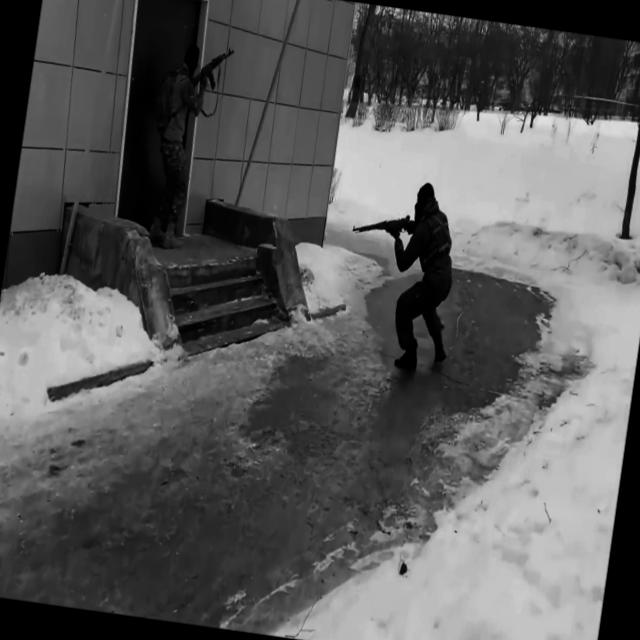gun: (351, 203, 418, 244), (188, 42, 236, 99)
person with a gun: (333, 172, 471, 377), (136, 35, 237, 256)
